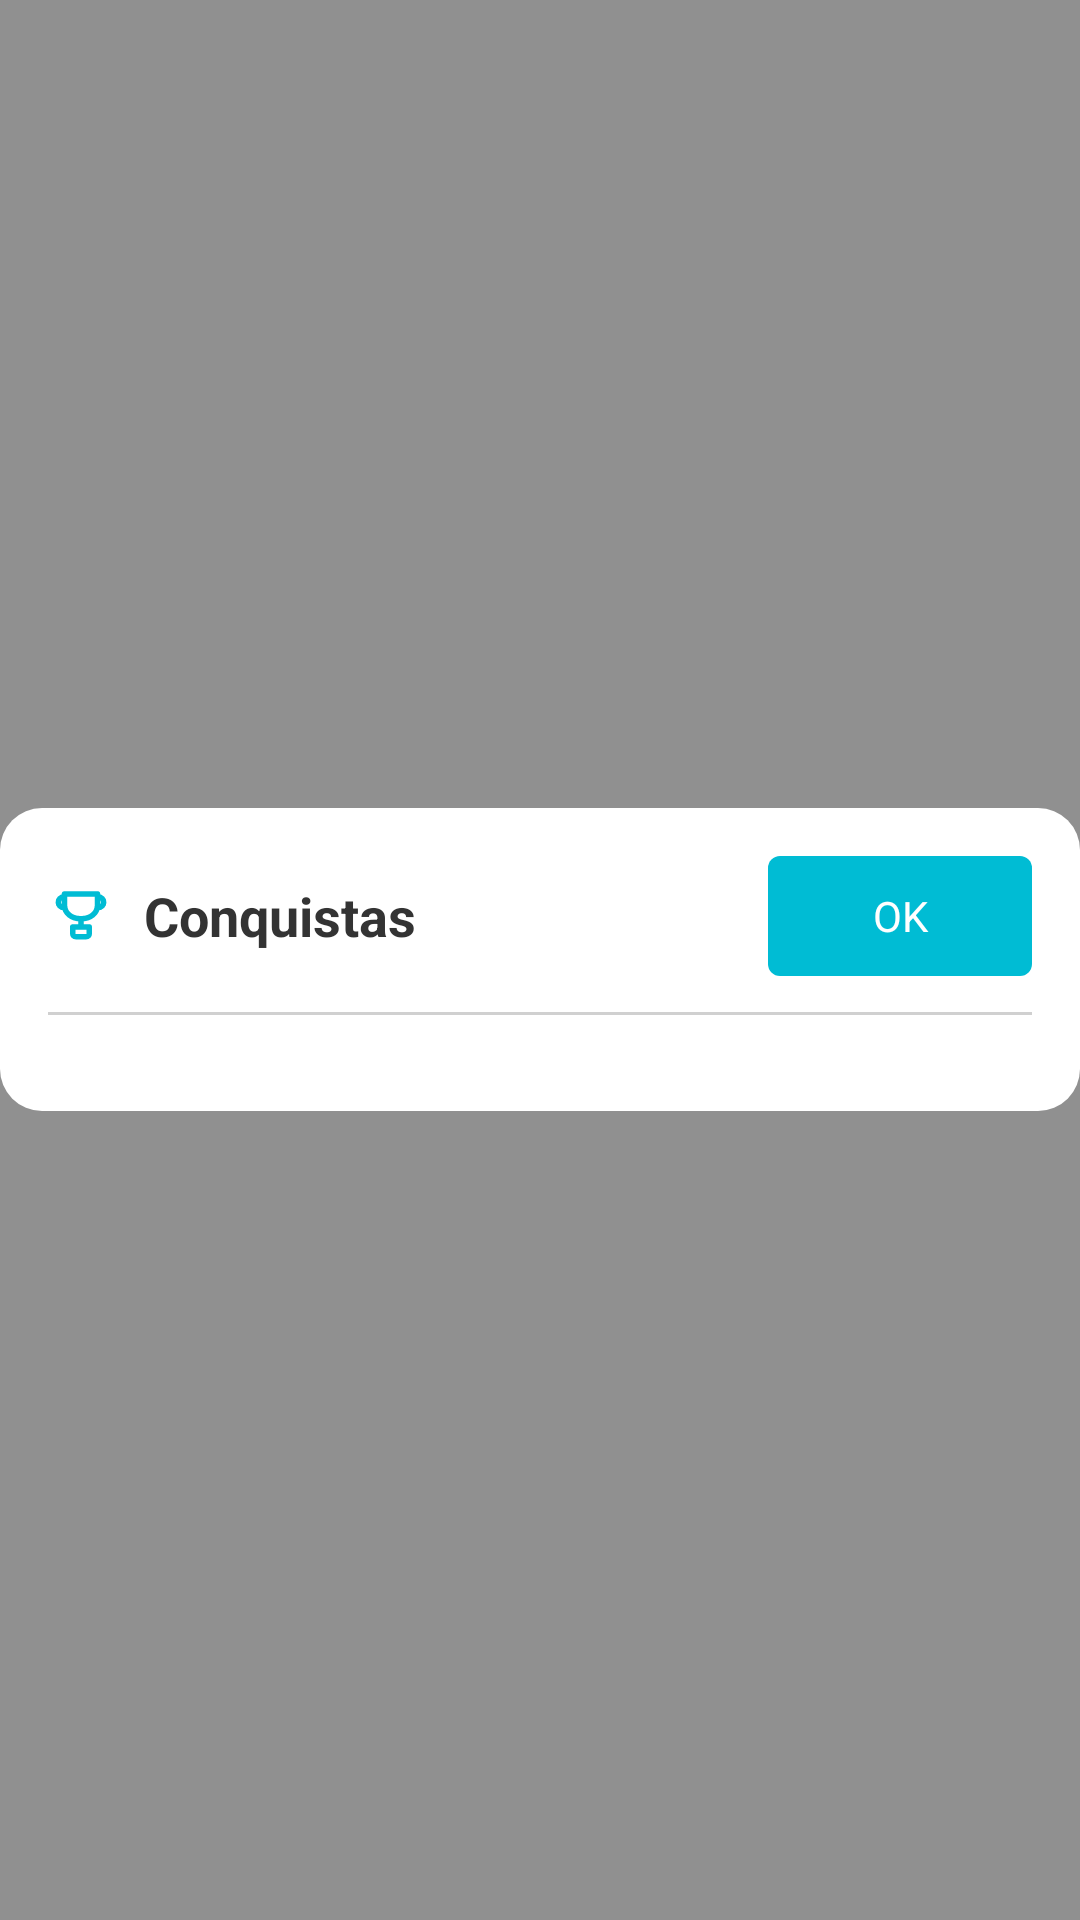

Icon click points for this 1080x1920 phone screenshot, format (x,y):
trophy: (81,915)
